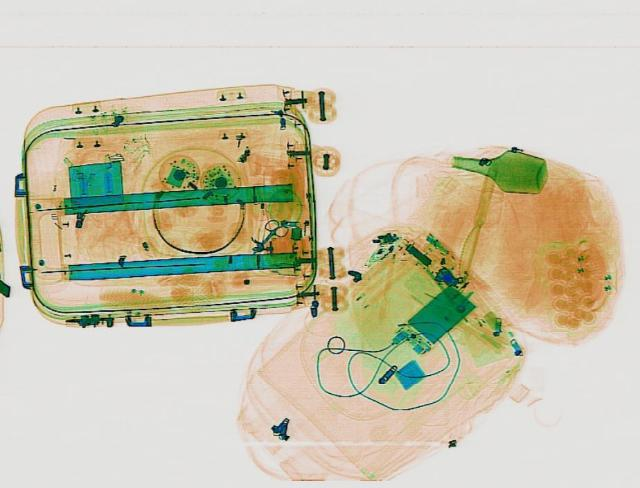Scissors: (238, 215, 292, 257)
